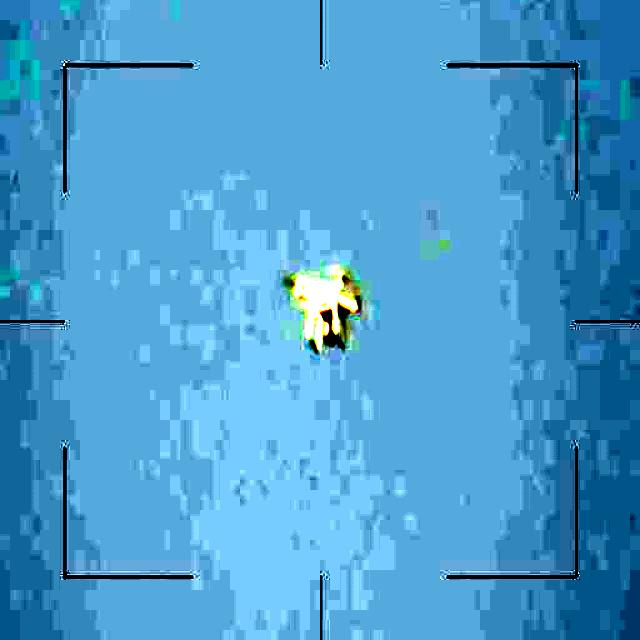bird: (280, 270, 361, 359)
